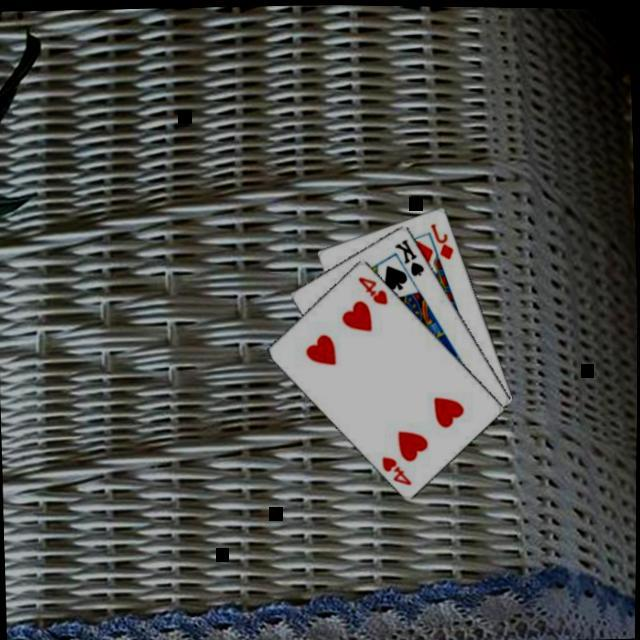4H: (378, 452, 413, 489), (355, 273, 390, 308)
JD: (426, 219, 455, 261)
KS: (391, 235, 426, 279)
